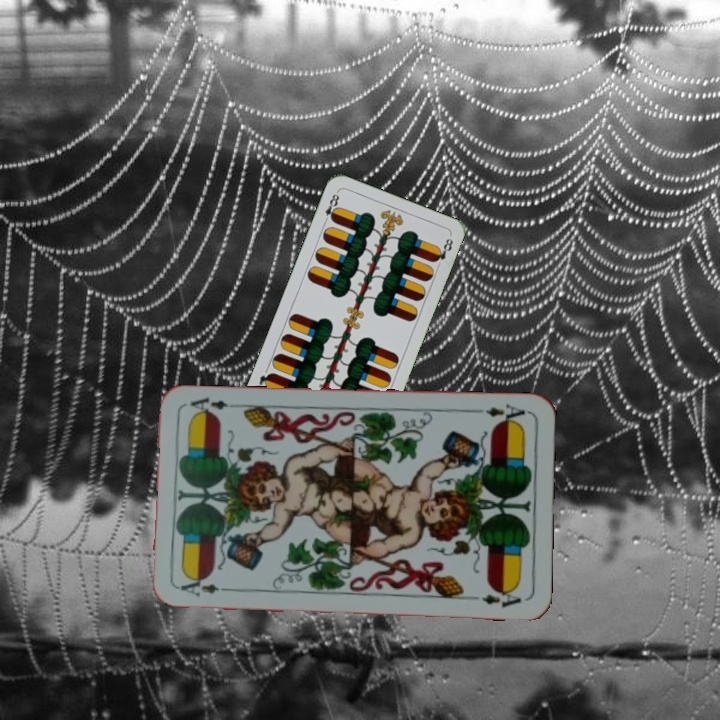E8: (319, 188, 342, 227)
EA: (471, 400, 528, 426), (176, 578, 236, 600)
